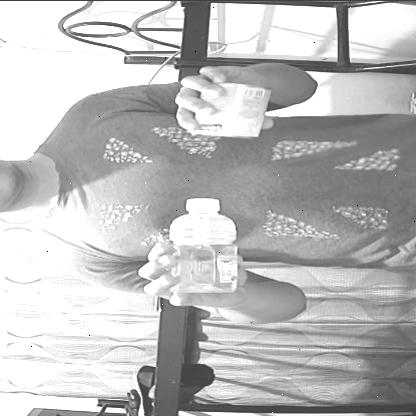Plastic Bottle: (153, 191, 264, 303)
